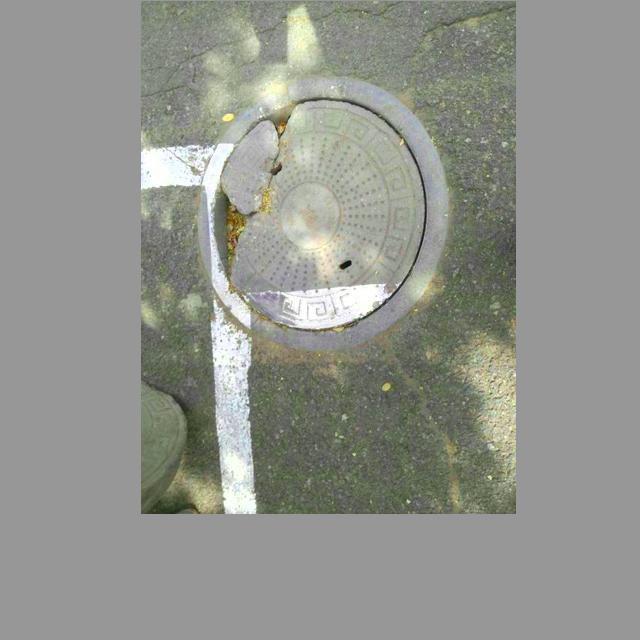broke: (191, 67, 460, 348)
